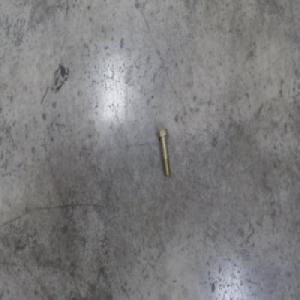Bolt: (156, 128, 170, 178)
